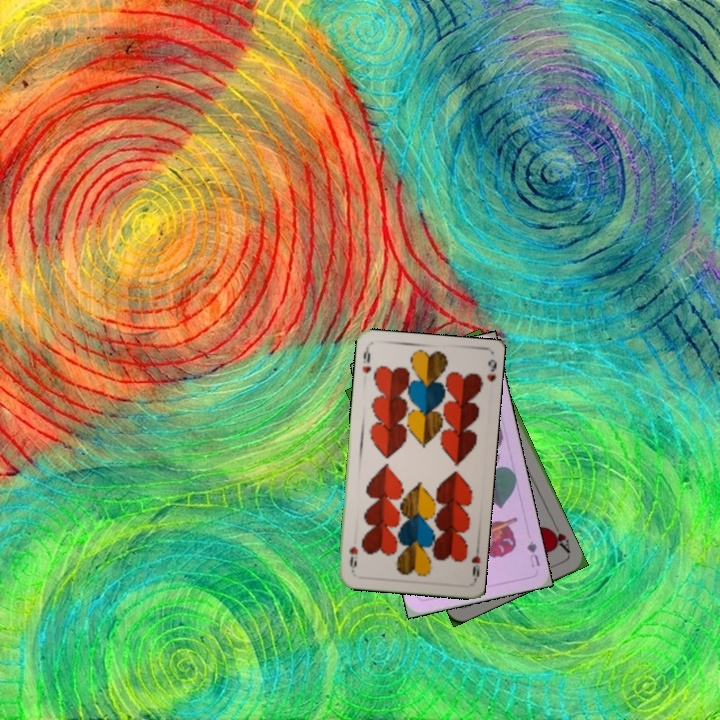GU: (523, 537, 543, 570)
H9: (468, 542, 483, 583), (358, 344, 373, 376)
HA: (545, 518, 573, 556)
